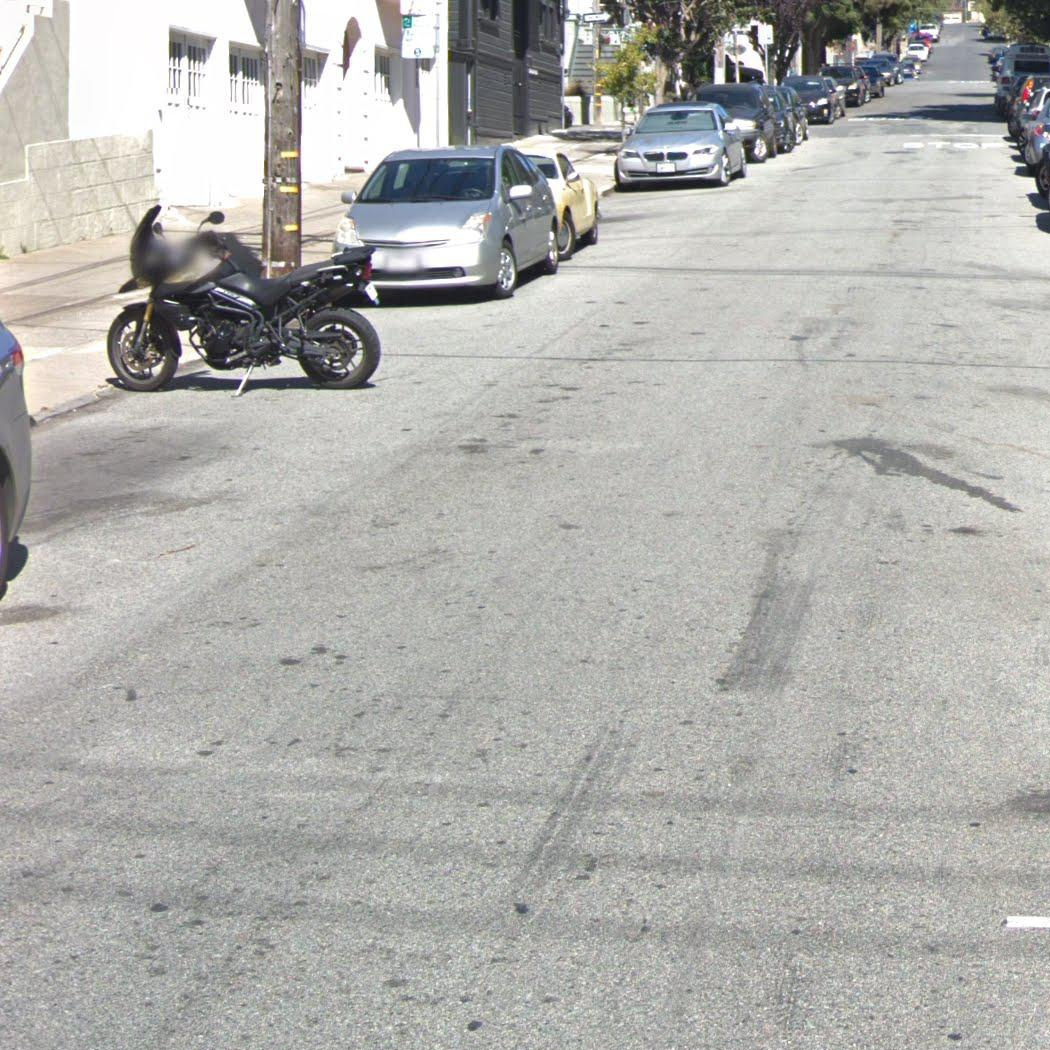2 Hour Parking: (401, 16, 436, 60)
